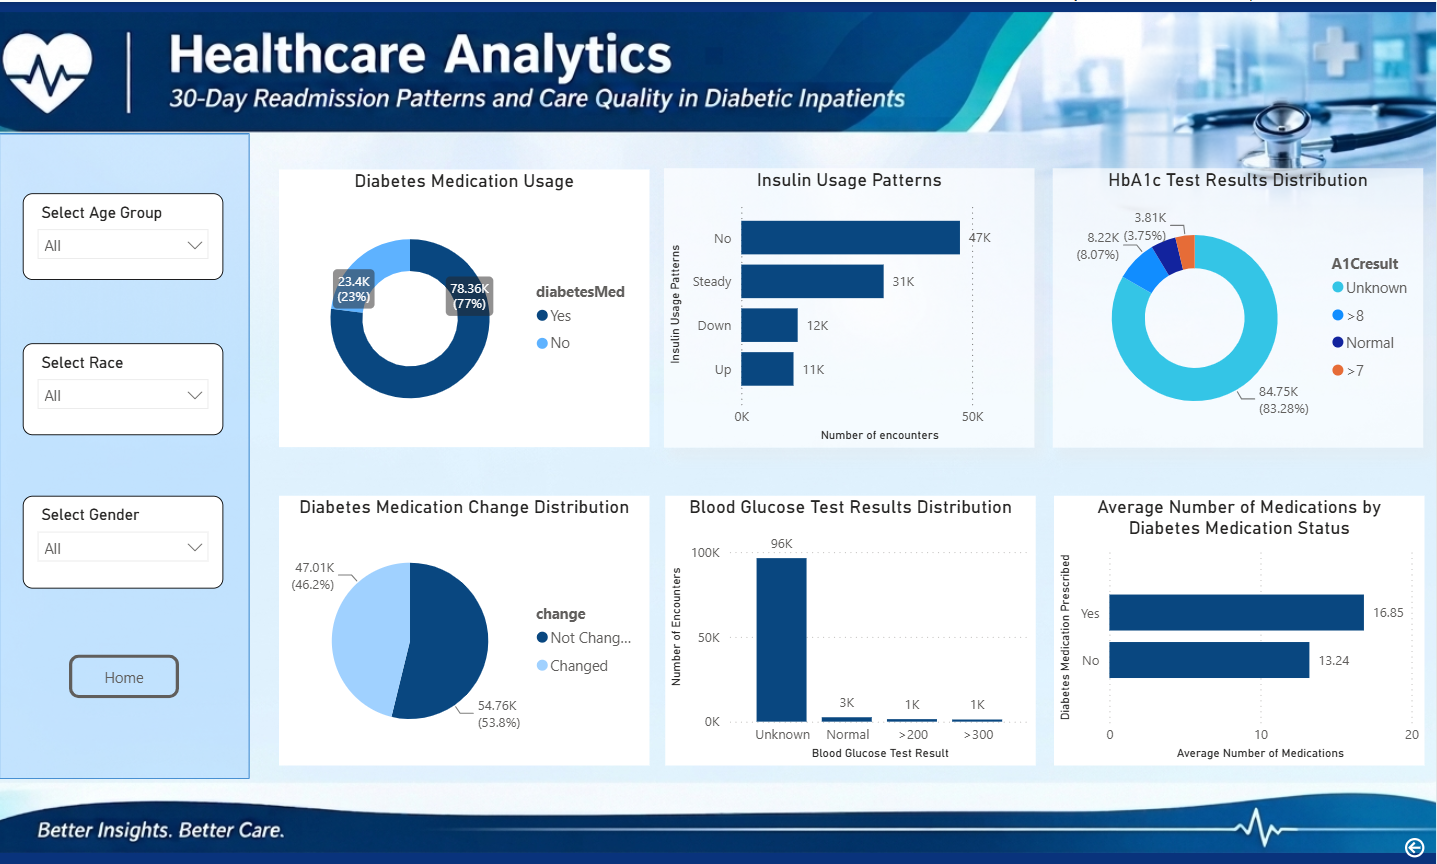

What the dashboard file says about the page in this screenshot:
{"tool":"powerbi","page":{"name":"Clinical & Medication Insights","canvas":[1313,791],"ordinal":5},"visuals":[{"type":"shape","box":[0,119.5,229.1,590],"z":0},{"type":"clusteredBarChart","title":"Insulin Usage Patterns","fields":{"Category":["Healthcare_readmission_data.insulin"],"Y":["CountNonNull(Healthcare_readmission_data.encounter_id)"]},"box":[607.2,151.5,338.7,255],"z":1000},{"type":"donutChart","title":"HbA1c Test Results Distribution","fields":{"Category":["Healthcare_readmission_data.A1Cresult"],"Y":["CountNonNull(Healthcare_readmission_data.encounter_id)"]},"box":[962,151.5,338.7,255],"z":2000},{"type":"pieChart","title":"Diabetes Medication Change Distribution","fields":{"Y":["CountNonNull(Healthcare_readmission_data.encounter_id)"],"Category":["Healthcare_readmission_data.change"]},"box":[256.2,450.8,338.7,246.3],"z":3000},{"type":"donutChart","title":"Diabetes Medication Usage","fields":{"Category":["Healthcare_readmission_data.diabetesMed"],"Y":["CountNonNull(Healthcare_readmission_data.encounter_id)"]},"box":[256.2,152.7,338.7,253.7],"z":4000},{"type":"clusteredColumnChart","title":"Blood Glucose Test Results Distribution","fields":{"Category":["Healthcare_readmission_data.max_glu_serum"],"Y":["CountNonNull(Healthcare_readmission_data.encounter_id)"]},"box":[608.5,450.8,338.7,246.3],"z":5000},{"type":"clusteredBarChart","title":"Average Number of Medications by Diabetes Medication Status","fields":{"Y":["Avg(Healthcare_readmission_data.num_medications)"],"Category":["Healthcare_readmission_data.diabetesMed"]},"box":[963.2,450.8,338.7,246.3],"z":6000},{"type":"slicer","fields":{"Values":["Healthcare_readmission_data.Age Group"]},"box":[22.2,174.9,183.5,78.8],"z":7000},{"type":"slicer","title":"Amission Type","fields":{"Values":["Healthcare_readmission_data.race"]},"box":[22.2,311.6,183.5,83.8],"z":8000},{"type":"slicer","fields":{"Values":["Healthcare_readmission_data.gender"]},"box":[22.2,450.8,183.5,85],"z":9000},{"type":"actionButton","box":[63.9,596,100.5,40],"z":11002},{"type":"actionButton","box":[1274.2,753.6,38.8,37.7],"z":12002}]}

Visuals, with their boxes in screenshot pixels (x1, y1, x2, y2), scaled from the page's 1313x791 canvas onto the 1437x864 screenshot:
shape: <region>0, 131, 251, 775</region>
"Insulin Usage Patterns" clusteredBarChart: <region>665, 165, 1035, 444</region>
"HbA1c Test Results Distribution" donutChart: <region>1053, 165, 1424, 444</region>
"Diabetes Medication Change Distribution" pieChart: <region>280, 492, 651, 761</region>
"Diabetes Medication Usage" donutChart: <region>280, 167, 651, 444</region>
"Blood Glucose Test Results Distribution" clusteredColumnChart: <region>666, 492, 1037, 761</region>
"Average Number of Medications by Diabetes Medication Status" clusteredBarChart: <region>1054, 492, 1425, 761</region>
slicer - Healthcare_readmission_data.Age Group: <region>24, 191, 225, 277</region>
"Amission Type" slicer: <region>24, 340, 225, 432</region>
slicer - Healthcare_readmission_data.gender: <region>24, 492, 225, 585</region>
actionButton: <region>70, 651, 180, 695</region>
actionButton: <region>1395, 823, 1436, 863</region>
